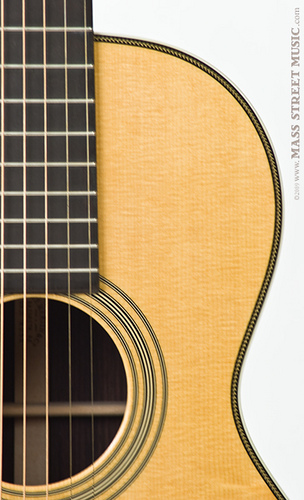guitar: (1, 1, 304, 500)
